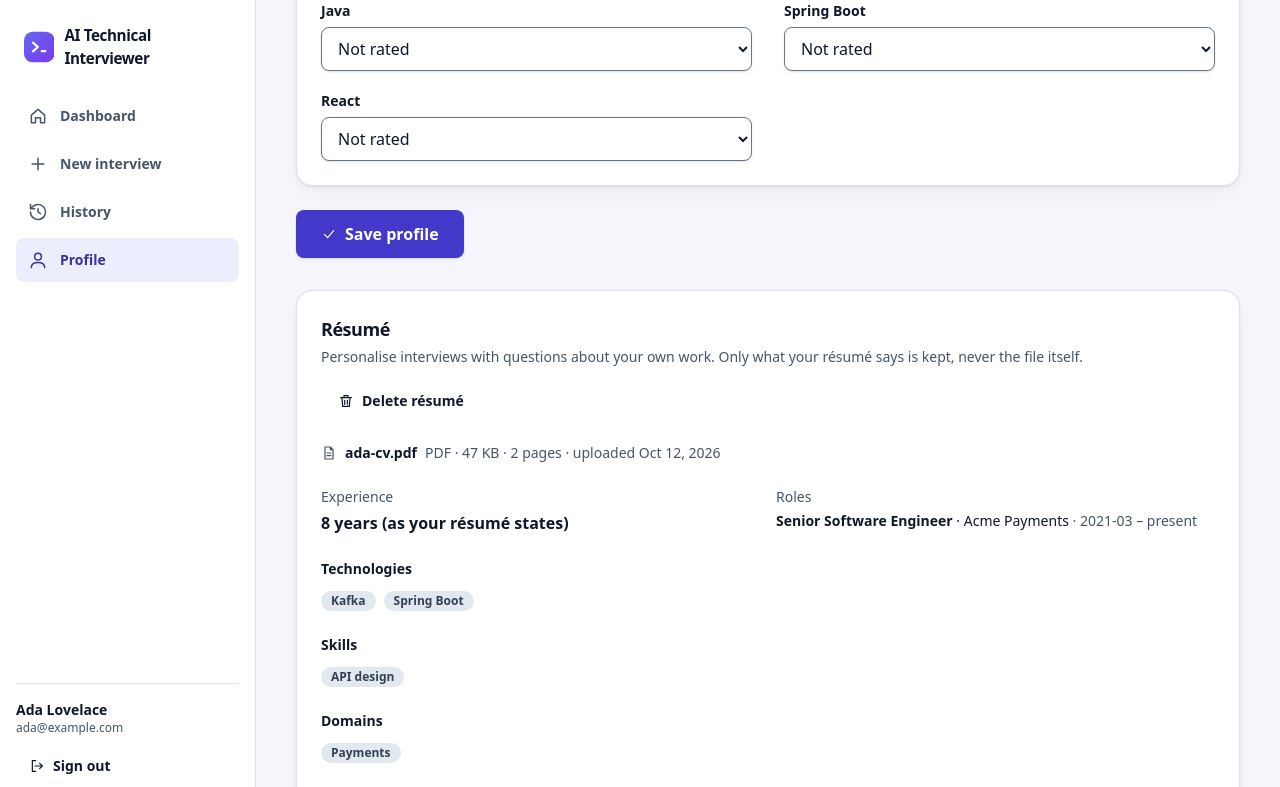
Test: ResumeCard › deletes the résumé after a confirmation
(page scrolled)
Click the button "Delete résumé": click(401, 401) [321,379,481,423]
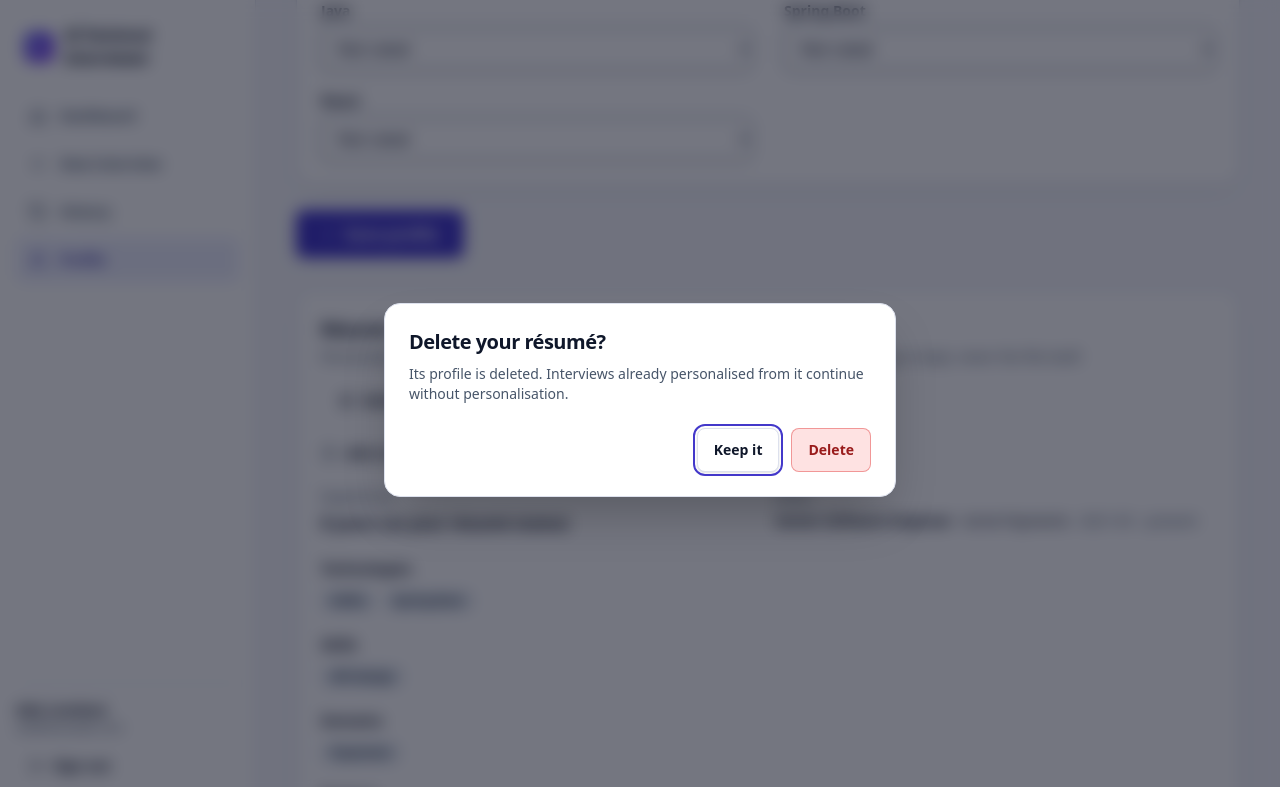
Click the button "Delete": click(831, 450) [792,428,871,472]
(page scrolled)
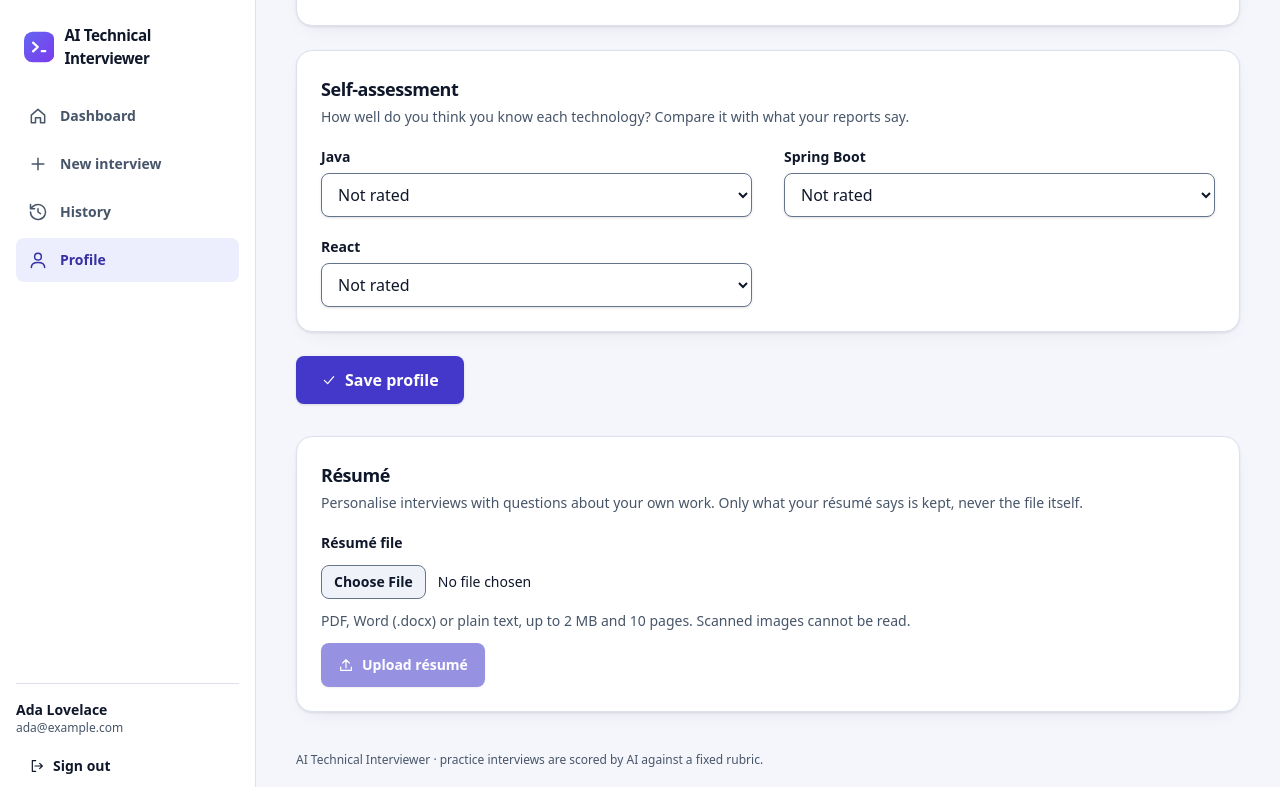
Expected: the file field labelled "Résumé file" is shown, [321,565,1215,599]
